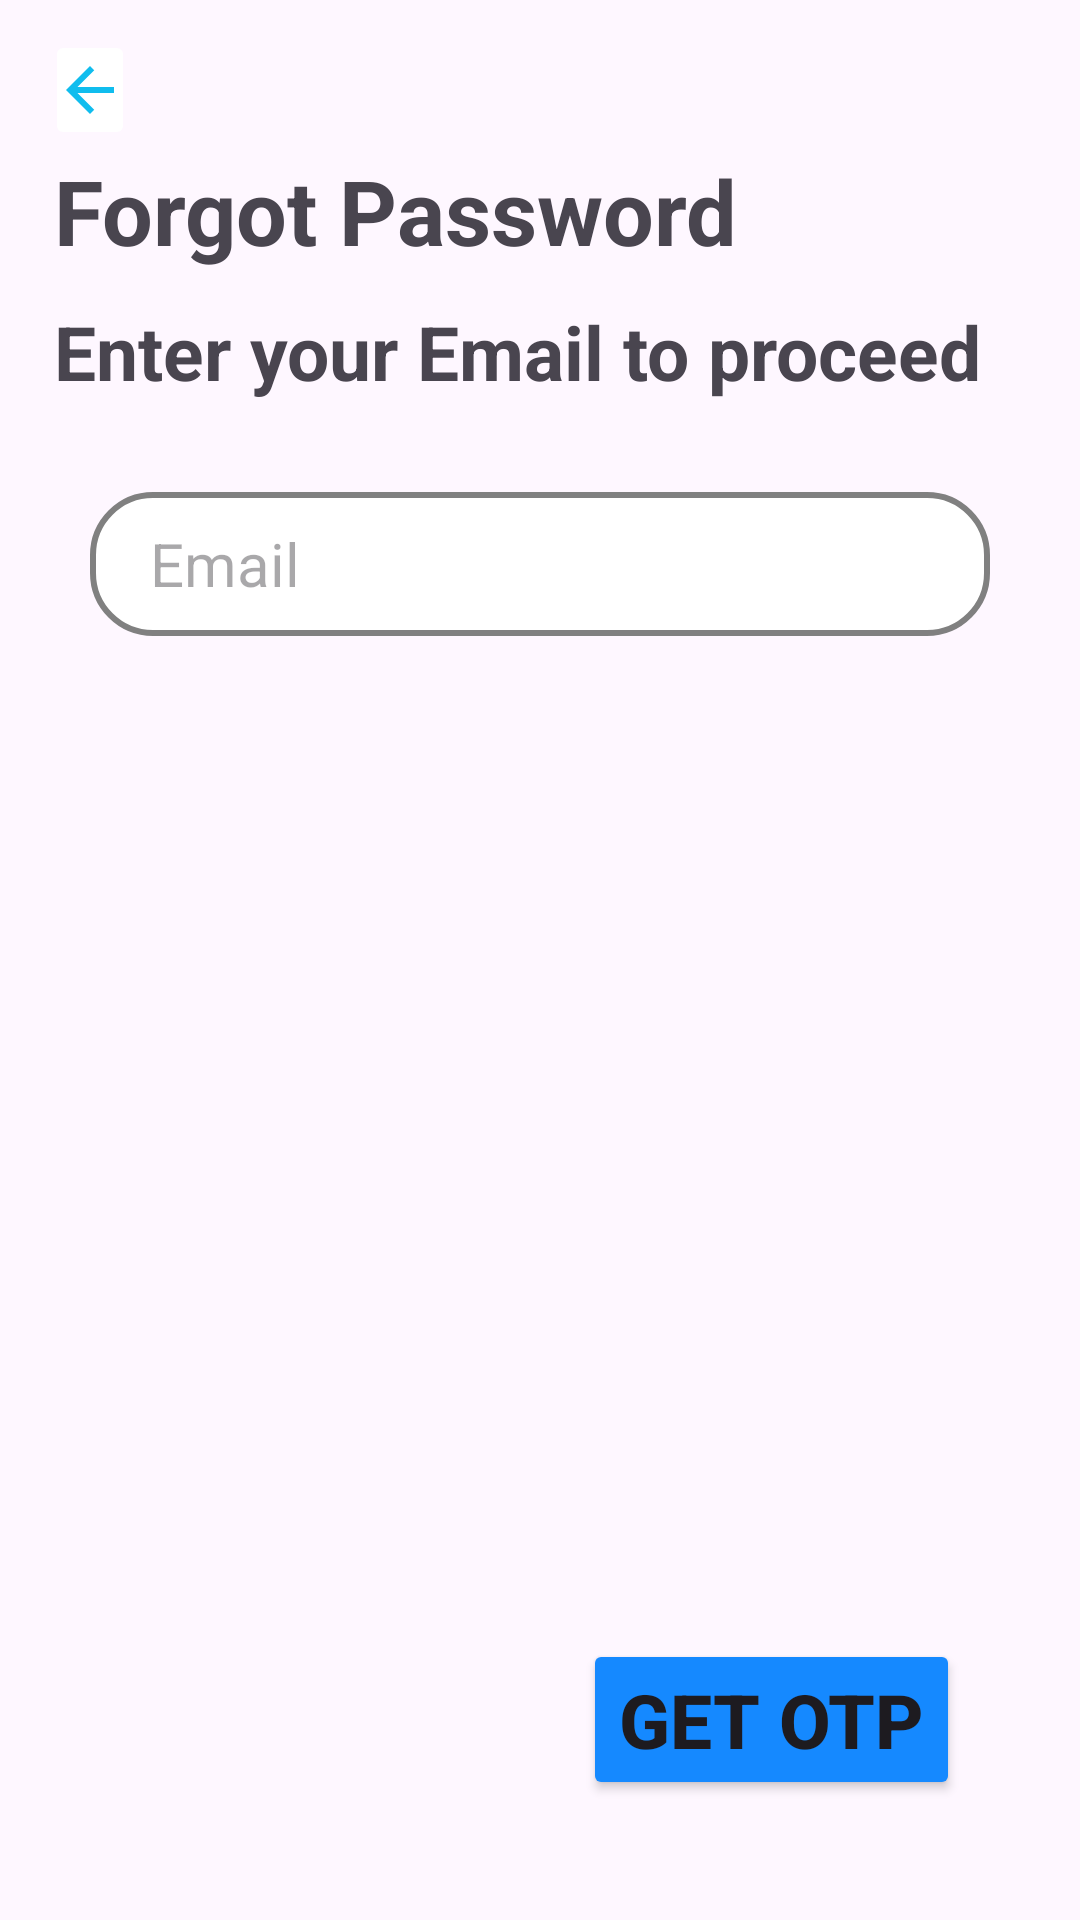

Screen size 1080 × 1920. Icon name, then its center in pixels as [x,y]:
arrow back: [90,90]
